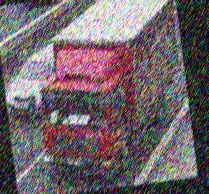truck: (26, 0, 193, 184)
